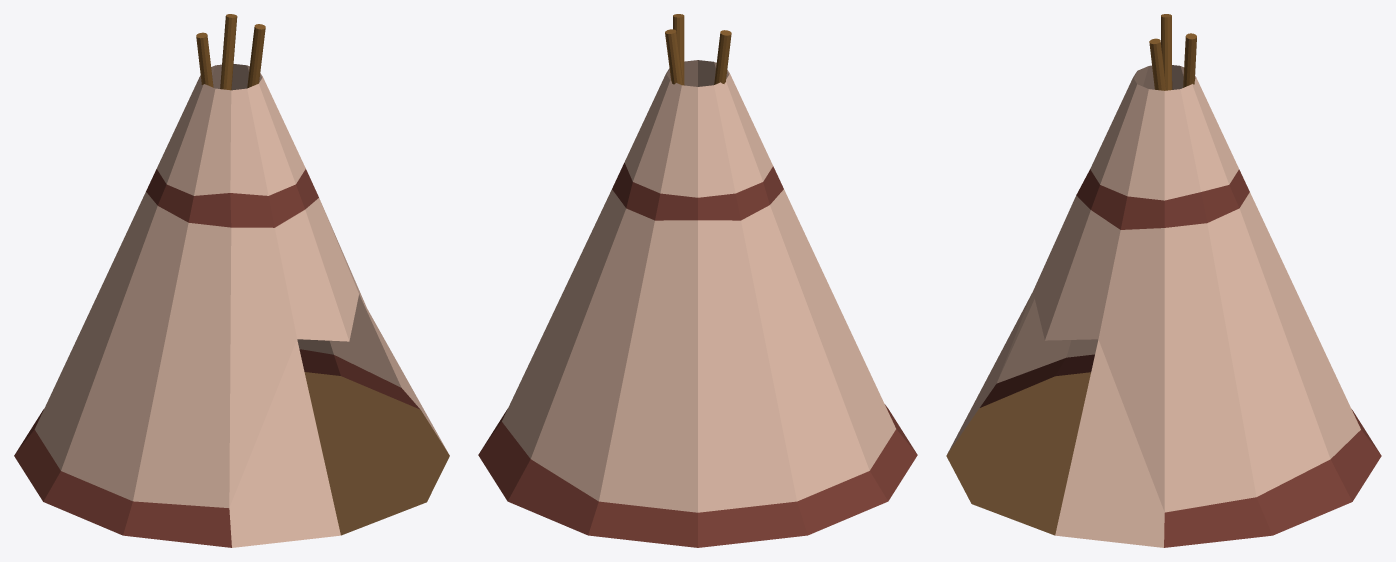
File: Tepee.fbx
The picture shows the model from 3 angles, left to right: view 1: azimuth 30°, elevation 25°; view 2: azimuth 150°, elevation 25°; view 3: azimuth 270°, elevation 25°; orthographic projection.
Parts seen in each view (by area): view 1: Tepee; view 2: Tepee; view 3: Tepee.
Boxes of the visible parts, x1=… form: Tepee: x1=14, y1=14, x2=449, y2=547; Tepee: x1=478, y1=14, x2=917, y2=547; Tepee: x1=946, y1=14, x2=1381, y2=547.
Size of the model in its own units: 209 by 226 by 209.
